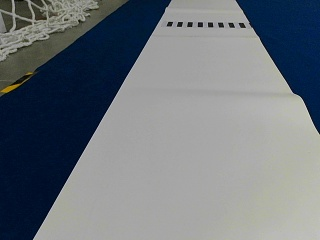crosswalk: (166, 20, 246, 28)
